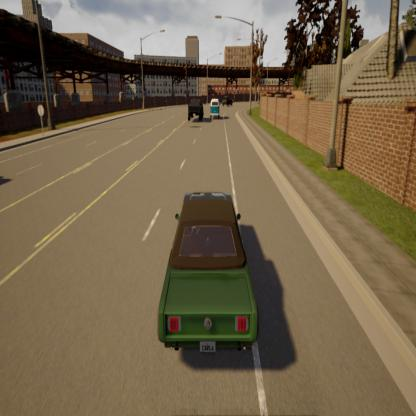Cars: (151, 178, 270, 380), (184, 89, 206, 127), (208, 86, 223, 124), (219, 88, 234, 110)
